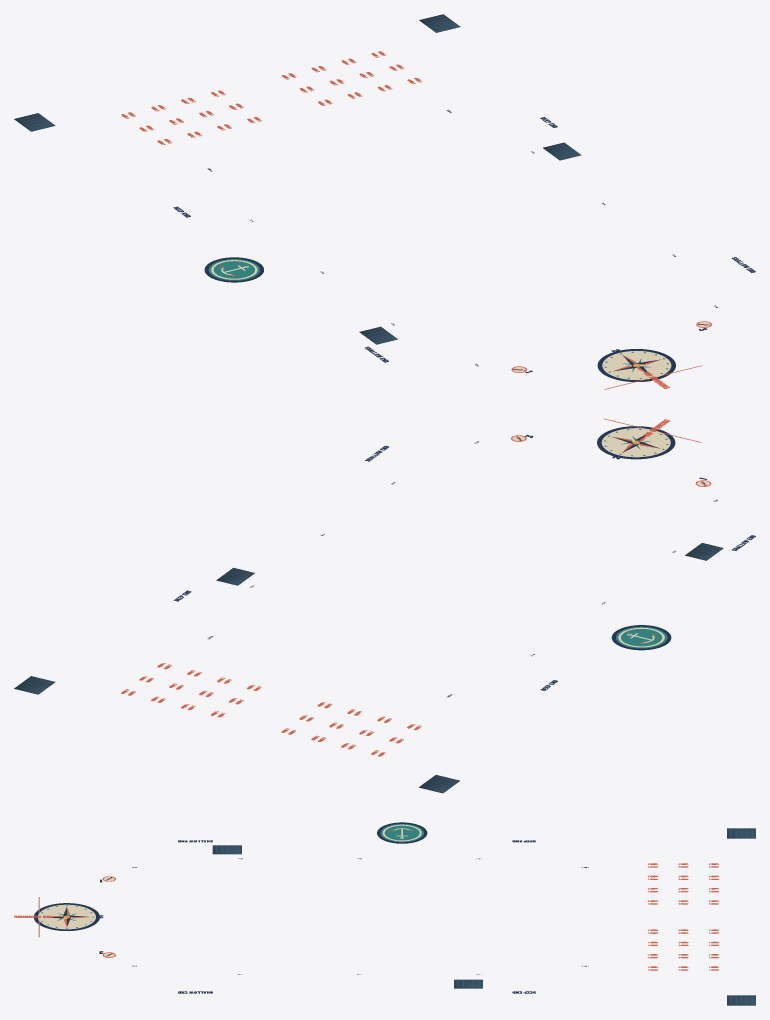
File: floor_markings.glb
The picture shows the model from 3 angles, top to bottom: view 1: azimuth 30°, elevation 25°; view 2: azimuth 150°, elevation 25°; view 3: azimuth 270°, elevation 25°; orthographic projection. The views are drawn at different scales.
Parts seen in each view (by area): view 1: FloorMarkingsMesh; view 2: FloorMarkingsMesh; view 3: FloorMarkingsMesh.
Boxes of the visible parts, bbox=[...] form: FloorMarkingsMesh: bbox=[14, 14, 755, 389]; FloorMarkingsMesh: bbox=[14, 418, 755, 793]; FloorMarkingsMesh: bbox=[14, 822, 755, 1005].
Bounding box in the file's own units: 16.35 × 0.017 × 28.
